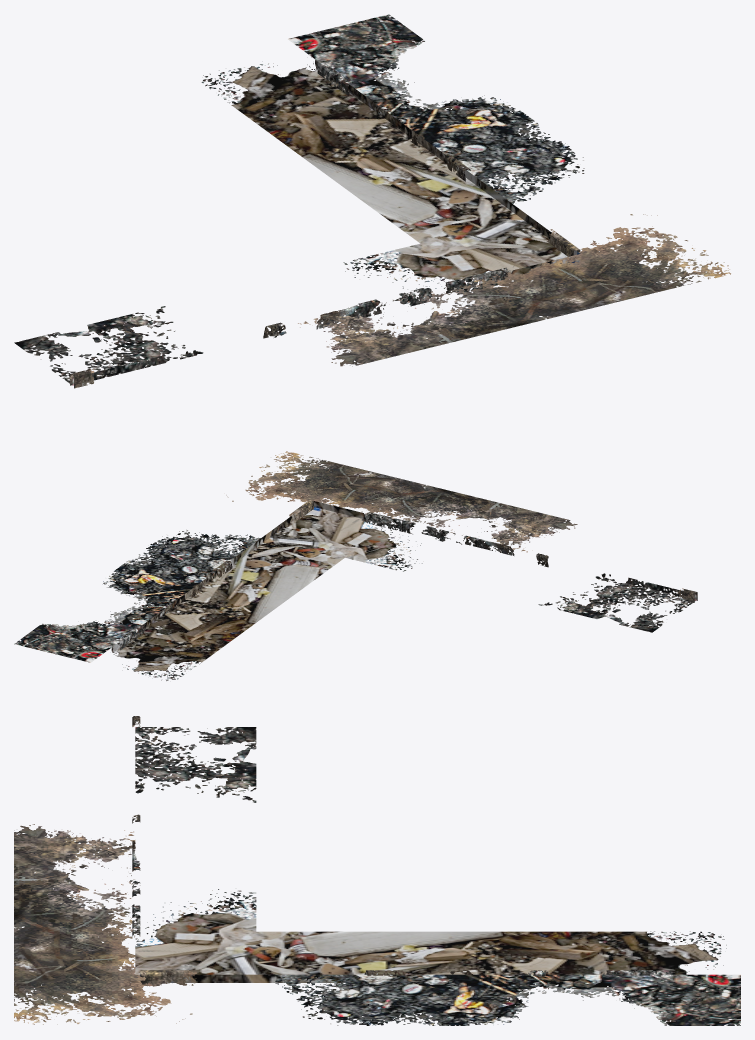
The model's file is RoadTurn01.fbx.
3 renders of one model, top to bottom at view 1: azimuth 30°, elevation 25°; view 2: azimuth 150°, elevation 25°; view 3: azimuth 270°, elevation 25°, orthographic. The views are drawn at different scales.
Visible parts, largest first — view 1: RoadTurn01; view 2: RoadTurn01; view 3: RoadTurn01.
Boxes of the visible parts, x1,y1,x2,y2 form: RoadTurn01: (14,14,730,388); RoadTurn01: (14,451,697,680); RoadTurn01: (14,716,740,1025).
Size of the model in its own units: 1200 by 23.07 by 1200.
